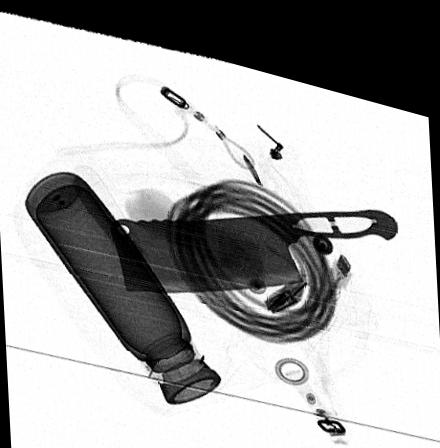Knife: (109, 189, 399, 287)
